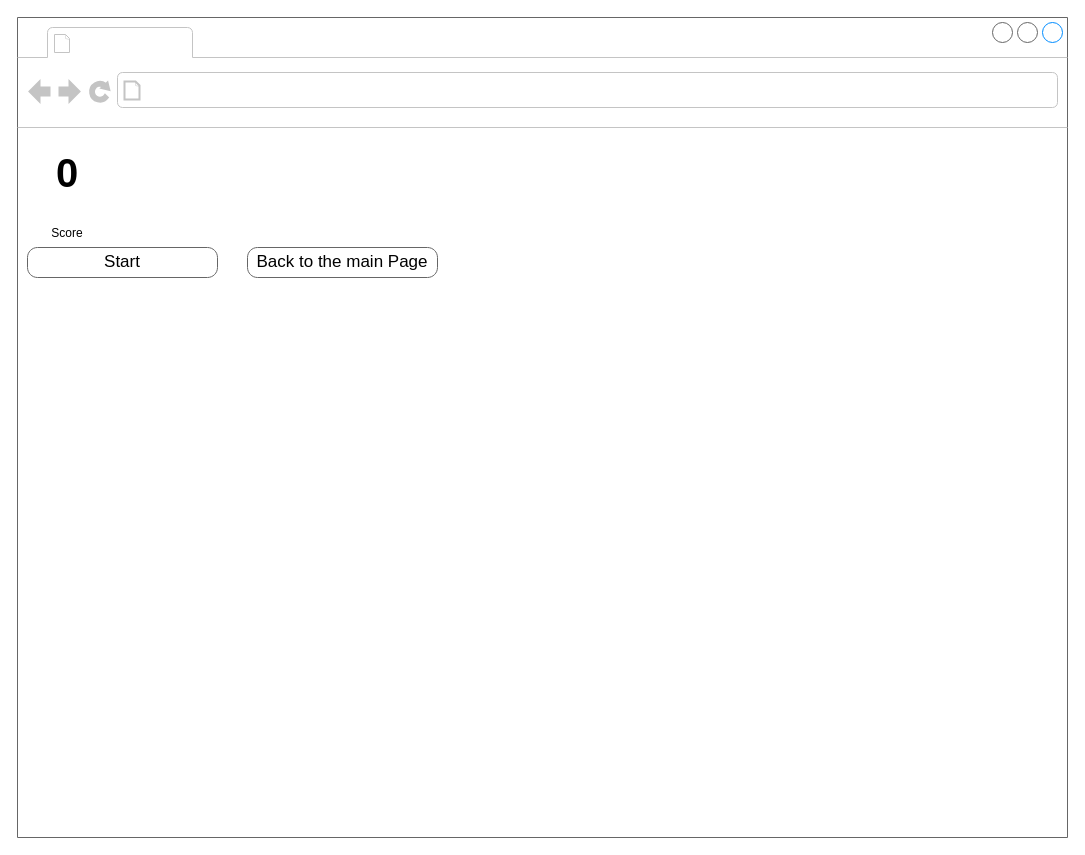
The diagram is 1085 pixels wide and 855 high, and some of its shapes have lost their labels. The shapes that lost their labels are listed below. From the top down, each one's box as (x1, y1, x2, y2) in pixels, then its label:
(76, 28, 188, 56): ShootingGame
(146, 76, 598, 104): http://localhost/Assignment/page/ShootingGame.php
